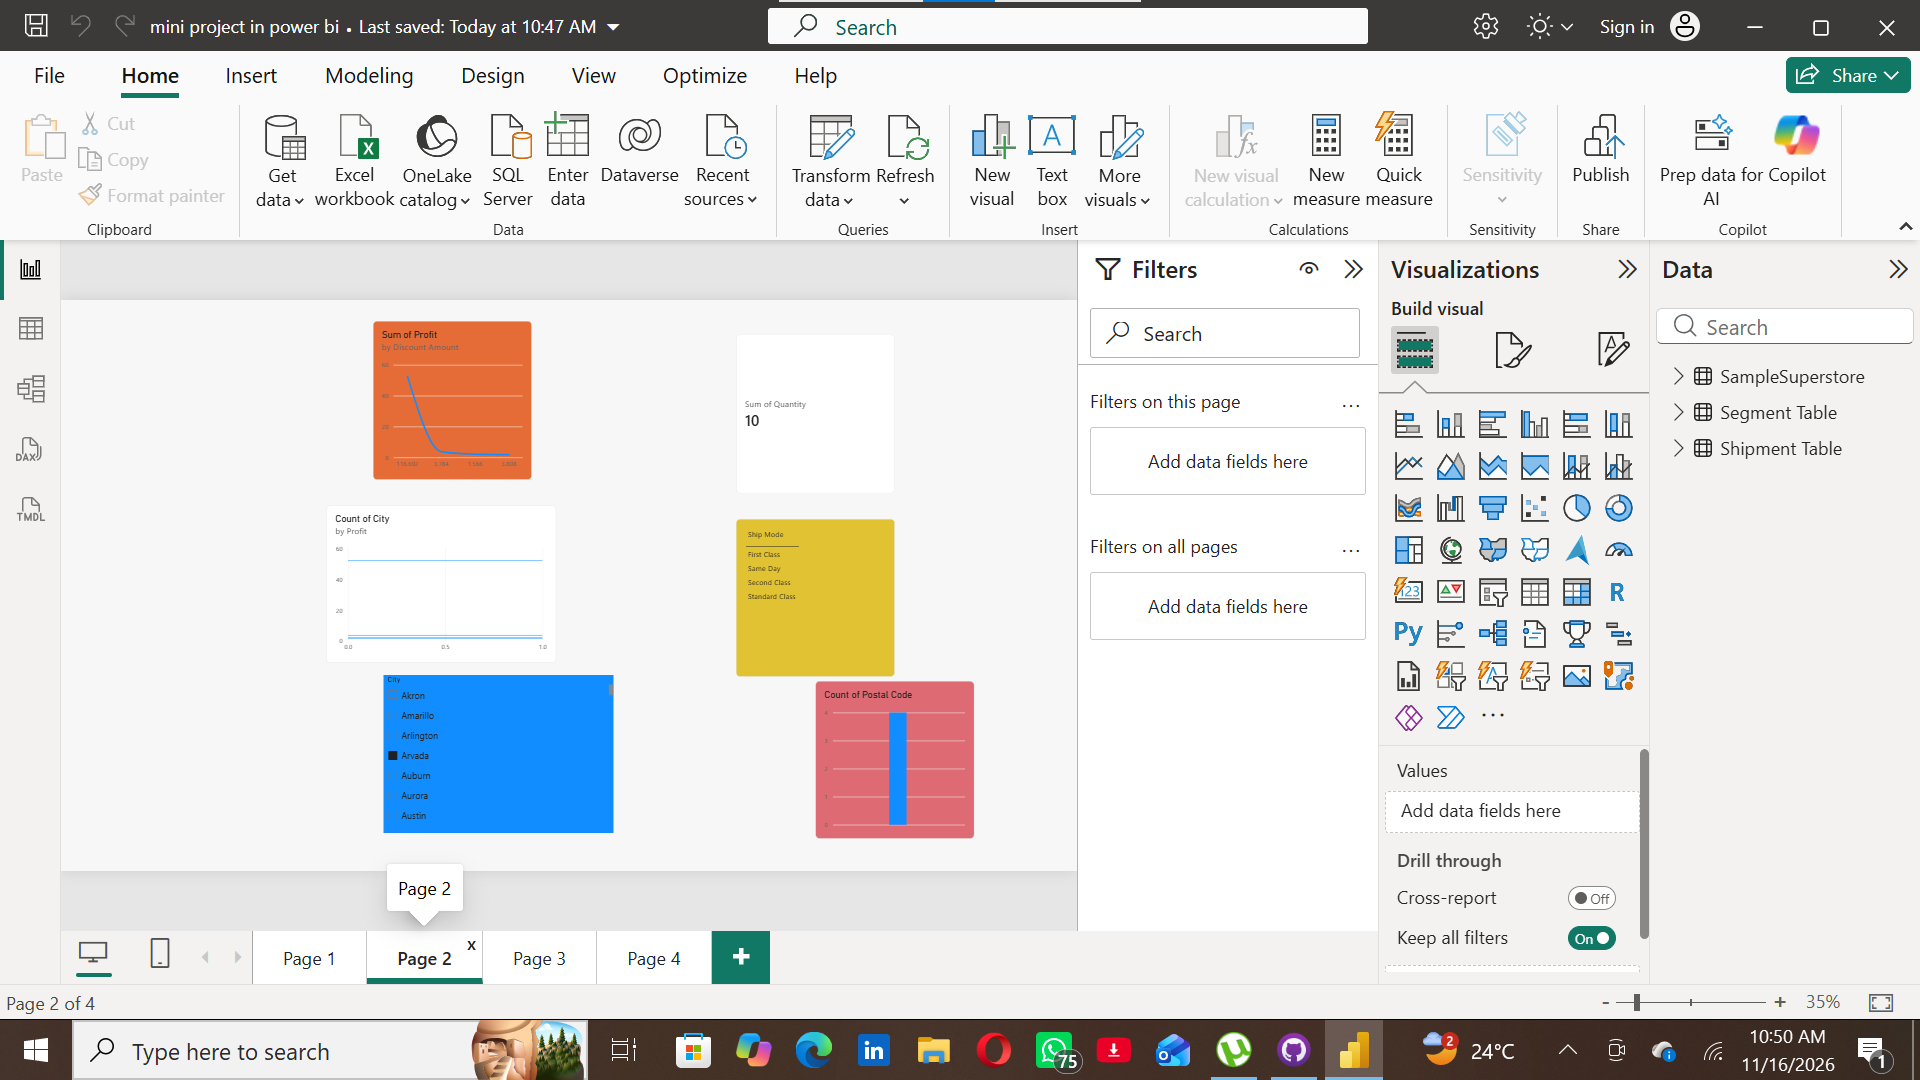

What the dashboard file says about the page in this screenshot:
{"tool":"powerbi","page":{"name":"Page 2","canvas":[1920,1080],"ordinal":1},"visuals":[{"type":"lineChart","fields":{"Category":["SampleSuperstore.Discount Amount"],"Y":["Sum(SampleSuperstore.Profit)"]},"box":[589.6,39.7,300,300],"z":0},{"type":"barChart","fields":{"Category":["SampleSuperstore.Profit"],"Y":["CountNonNull(SampleSuperstore.City)"]},"box":[501.7,388.3,433.7,297.6],"z":1000},{"type":"slicer","fields":{"Values":["SampleSuperstore.City"]},"box":[609.5,708.7,434,298],"z":2000},{"type":"cardVisual","fields":{"Data":["Sum(SampleSuperstore.Quantity)"]},"box":[1275.6,65.2,300,300],"z":3000},{"type":"tableEx","fields":{"Values":["Shipment Table.Ship Mode"]},"box":[1275.6,413.9,300,298],"z":4000},{"type":"clusteredColumnChart","fields":{"Y":["CountNonNull(SampleSuperstore.Postal Code)"]},"box":[1425.8,720,300,298],"z":5000}]}

Visuals, with their boxes on the page's 1920x1080 design canvas (x1, y1, x2, y2). These are canvas units, not pixel positions in the 1920x1080 screenshot, which may show the page scaled, cropped or inside an application window:
lineChart - SampleSuperstore.Discount Amount x Sum(SampleSuperstore.Profit): [x1=590, y1=40, x2=890, y2=340]
barChart - SampleSuperstore.Profit x CountNonNull(SampleSuperstore.City): [x1=502, y1=388, x2=935, y2=686]
slicer - SampleSuperstore.City: [x1=610, y1=709, x2=1044, y2=1007]
cardVisual - Sum(SampleSuperstore.Quantity): [x1=1276, y1=65, x2=1576, y2=365]
tableEx - Shipment Table.Ship Mode: [x1=1276, y1=414, x2=1576, y2=712]
clusteredColumnChart - CountNonNull(SampleSuperstore.Postal Code): [x1=1426, y1=720, x2=1726, y2=1018]
